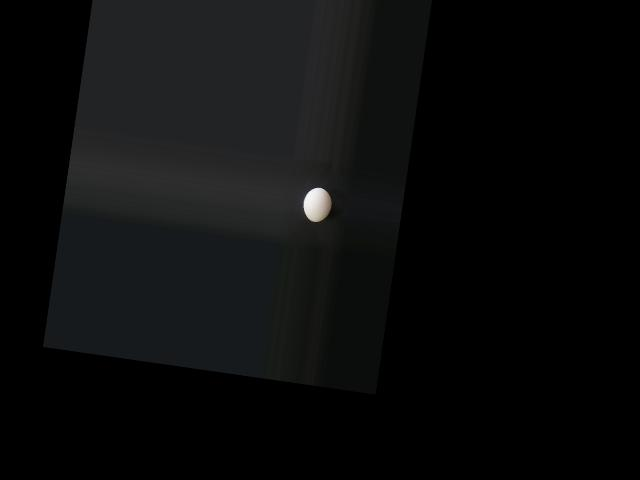egg: (301, 187, 333, 224)
